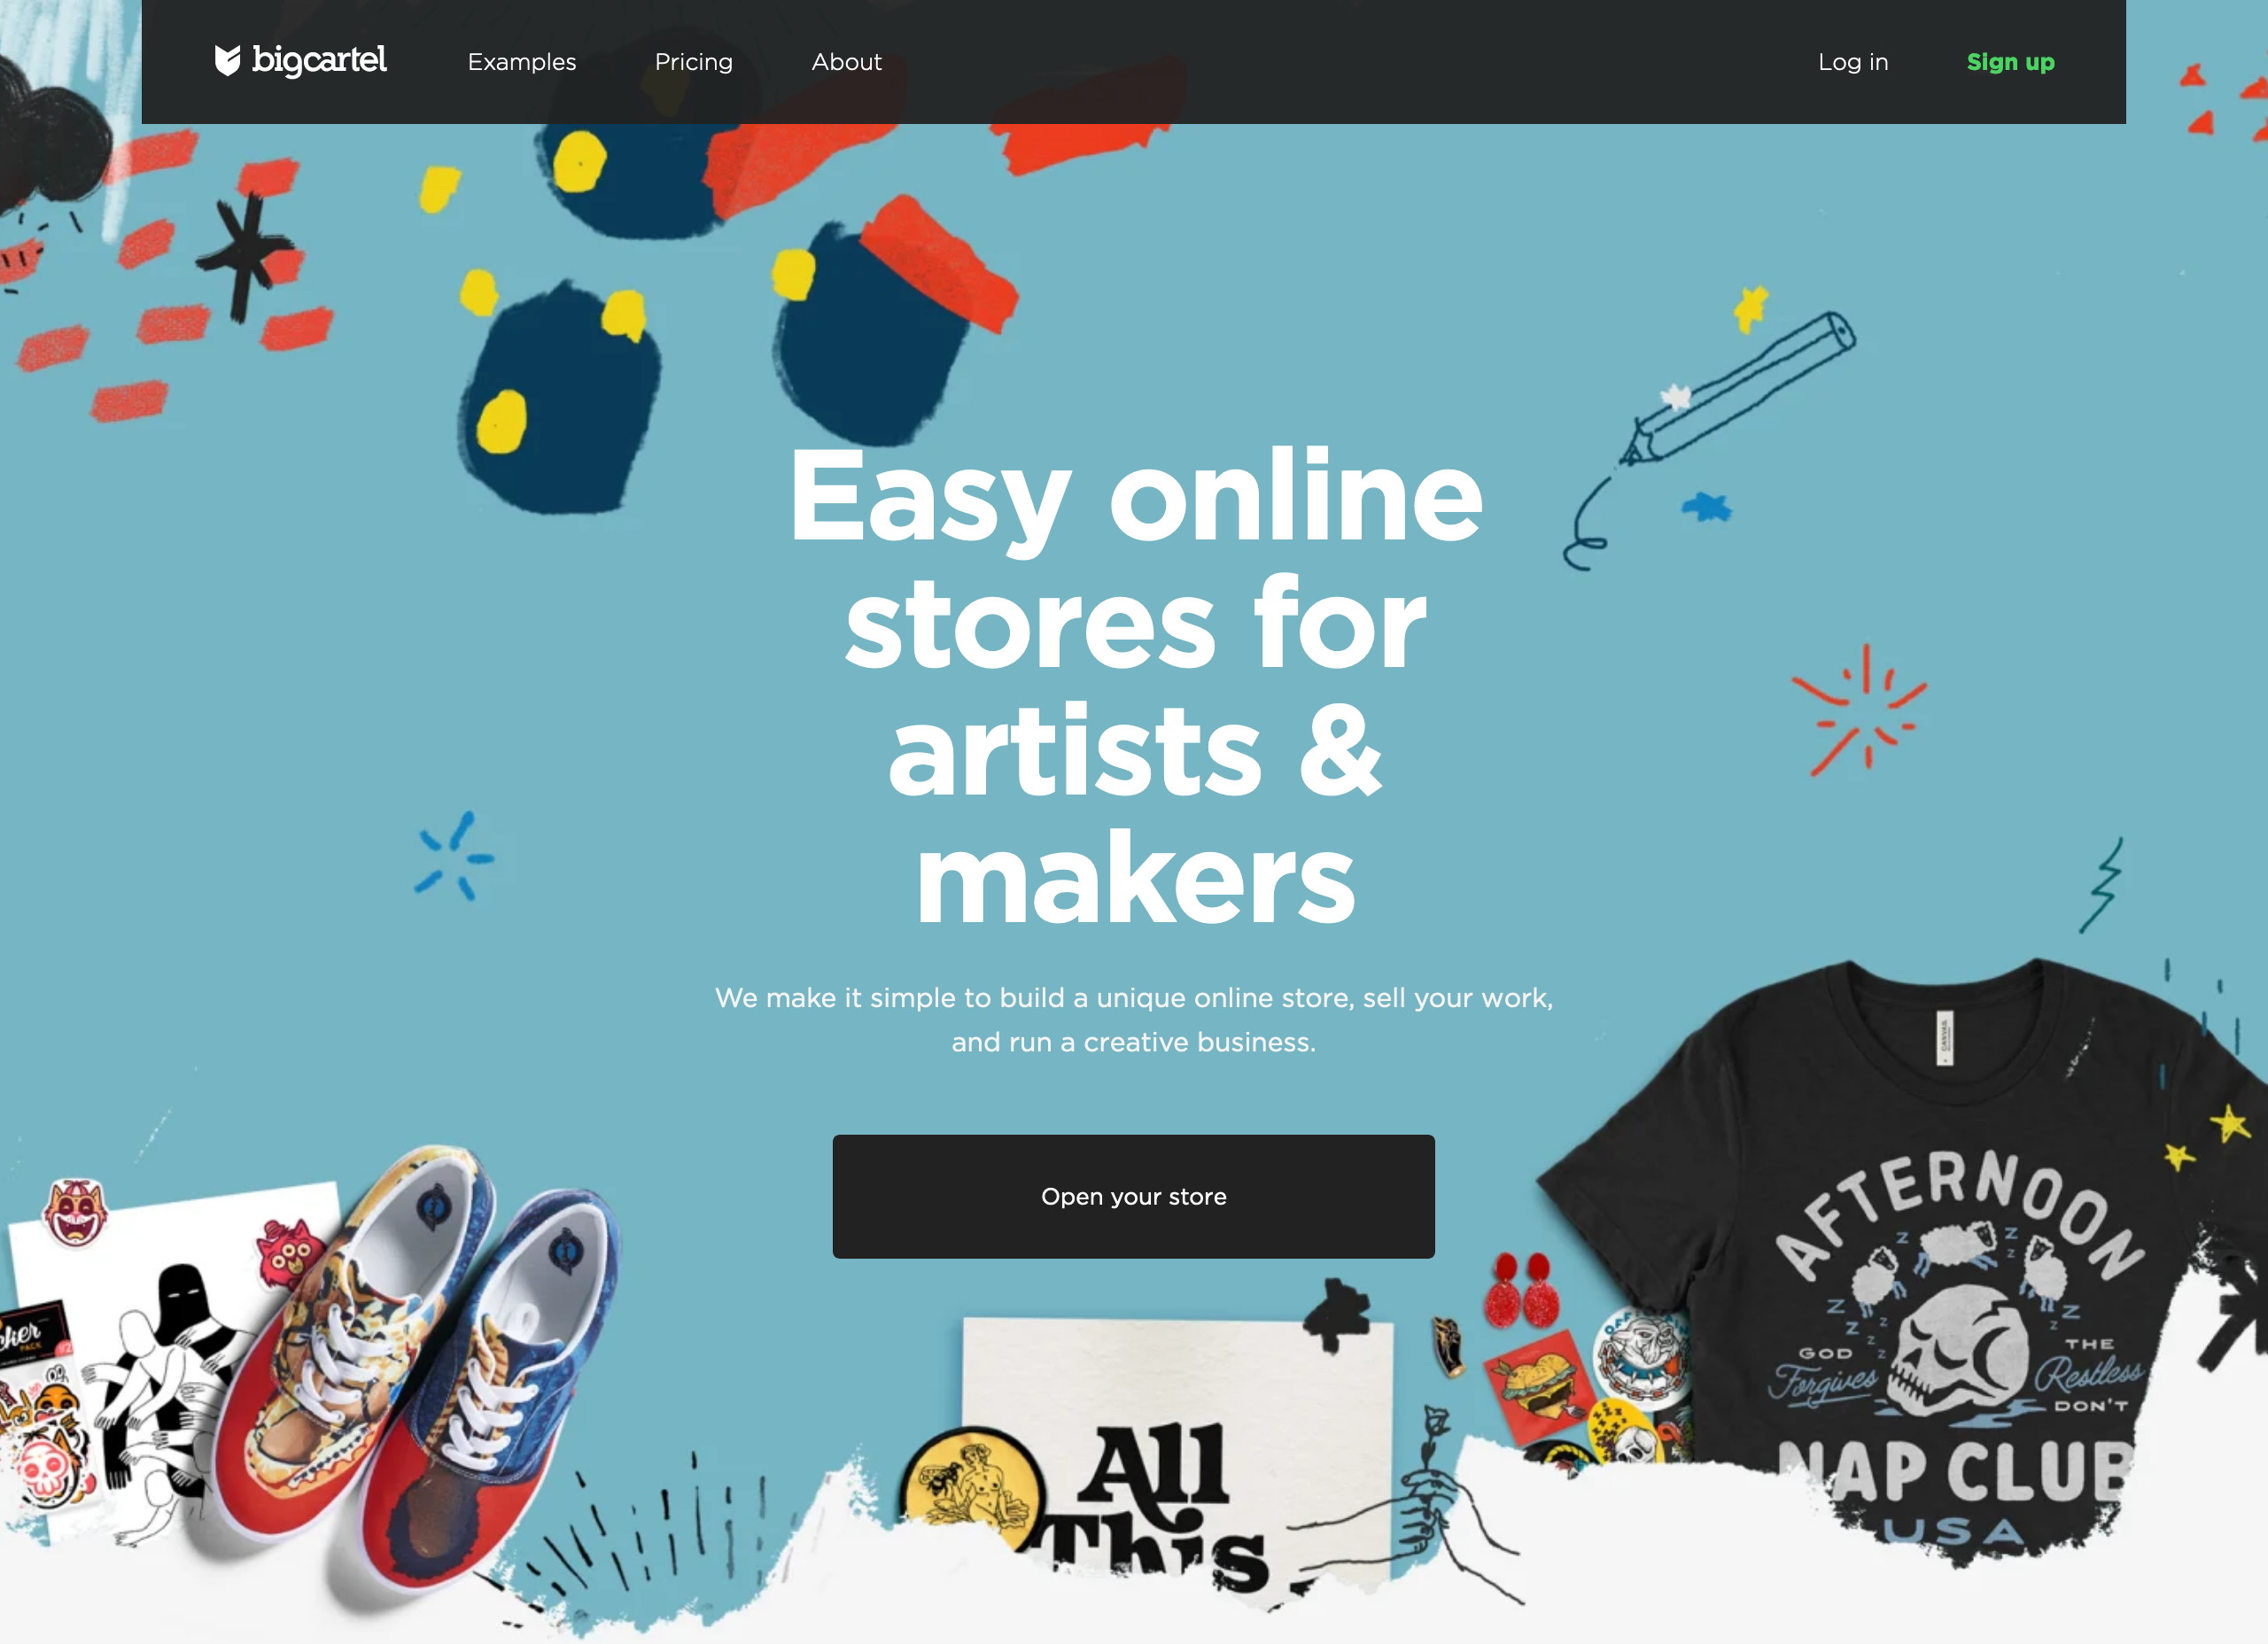Login: (1803, 39, 1907, 83)
